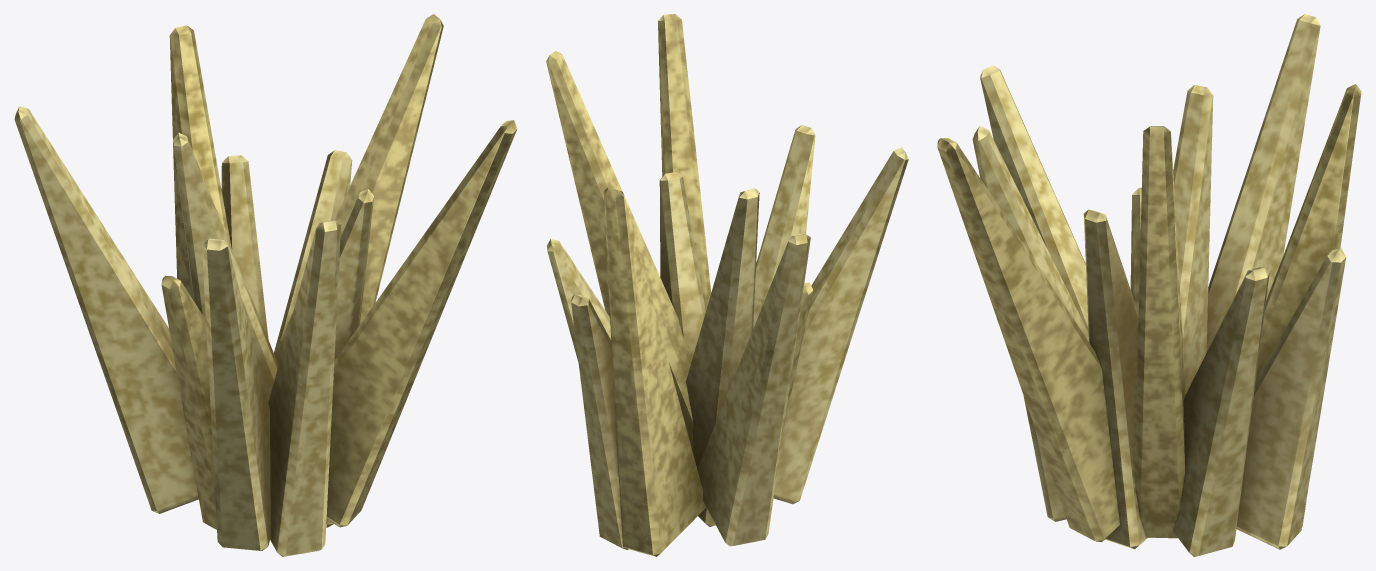
Rendered from Desert_Touffe.fbx.
3 renders of one model, left to right at view 1: azimuth 30°, elevation 25°; view 2: azimuth 150°, elevation 25°; view 3: azimuth 270°, elevation 25°, orthographic. The views are drawn at different scales.
Visible parts, largest first — view 1: Desert_Touffe; view 2: Desert_Touffe; view 3: Desert_Touffe.
Boxes of the visible parts, <box> form: Desert_Touffe: <box>14,14,517,556</box>; Desert_Touffe: <box>546,14,908,556</box>; Desert_Touffe: <box>937,14,1361,556</box>.
Size of the model in its own units: 235 by 291 by 232.
Materials: 1 (1 with a texture image).
